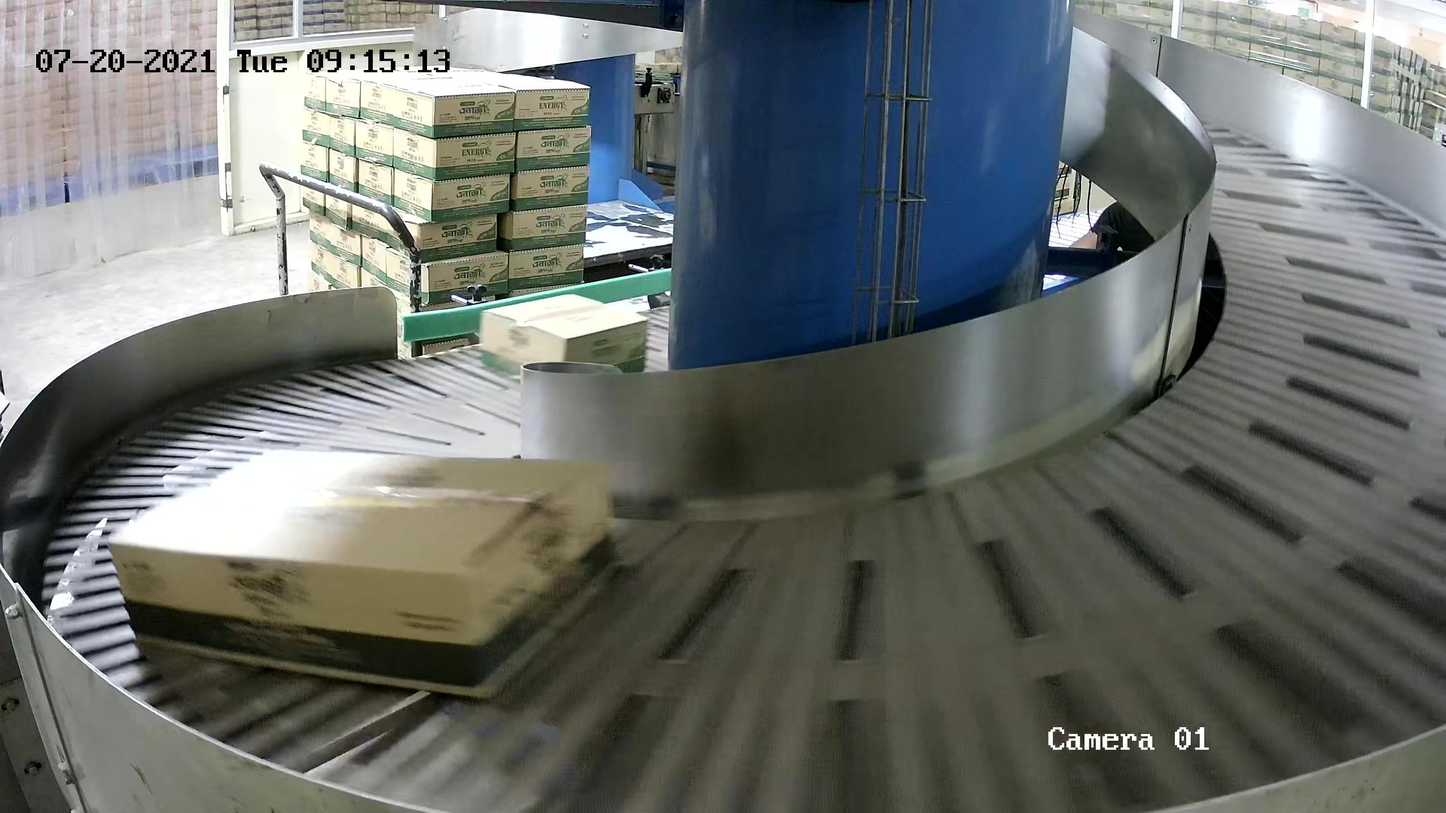Box: (103, 445, 624, 701), (479, 293, 648, 389)
